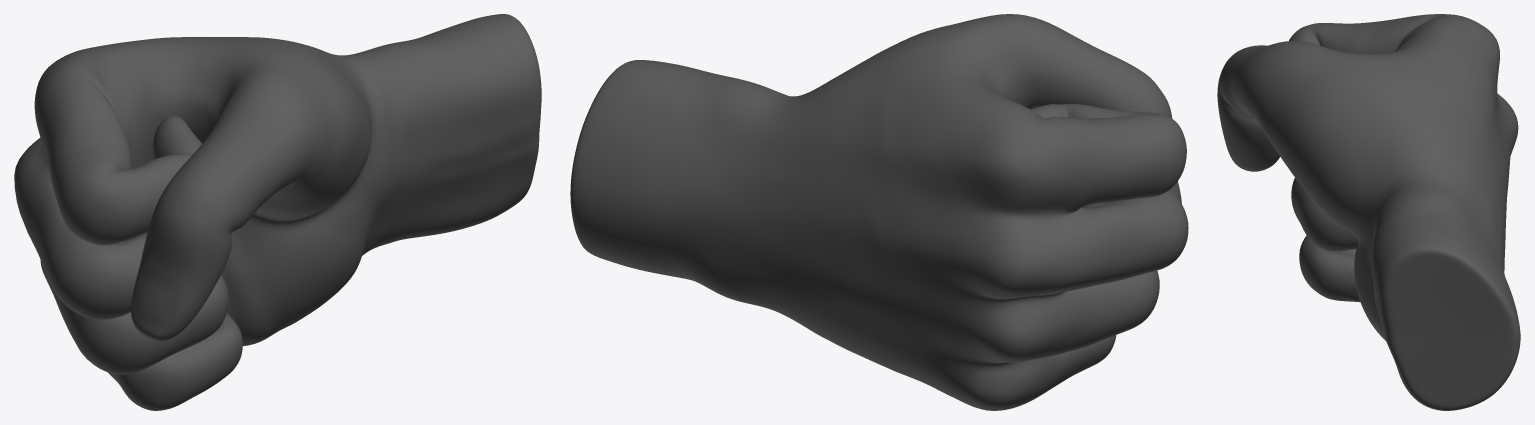
Rendered from hand.fbx.
3 renders of one model, left to right at view 1: azimuth 30°, elevation 25°; view 2: azimuth 150°, elevation 25°; view 3: azimuth 270°, elevation 25°, orthographic. The views are drawn at different scales.
Parts seen in each view (by area): view 1: node_id38; view 2: node_id38; view 3: node_id38.
Part boxes in pixels (x1,y1,x2,y2): node_id38: (14, 14, 541, 410); node_id38: (570, 14, 1188, 410); node_id38: (1217, 14, 1520, 410).
Bounding box in the file's own units: 0.2683 × 0.1631 × 0.1524.
Materials: 1 (1 with a texture image).
